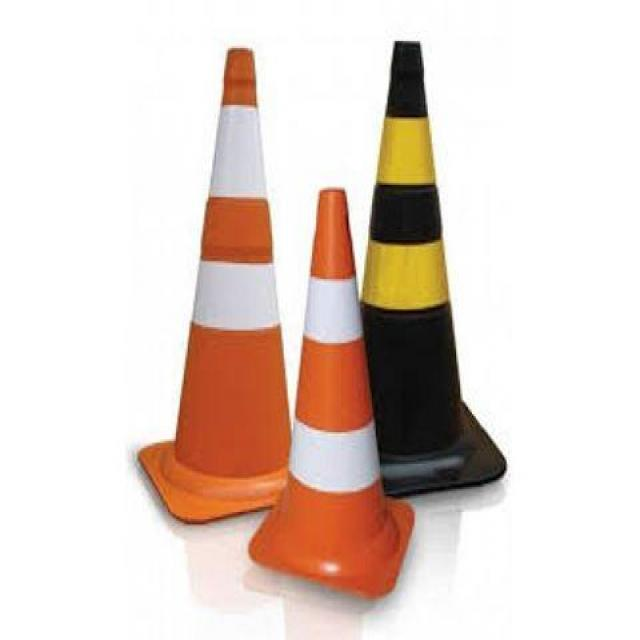cone: (147, 40, 289, 511), (358, 46, 506, 483), (276, 180, 399, 595)
